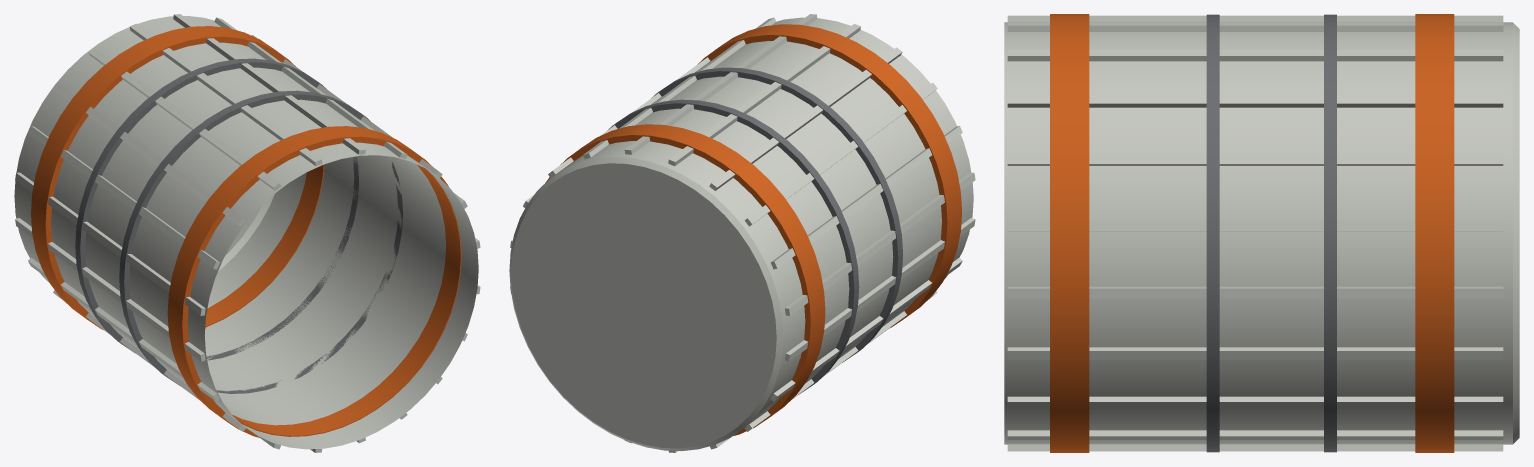
Rendered from u73l_housing.obj.
The picture shows the model from 3 angles, left to right: view 1: azimuth 30°, elevation 25°; view 2: azimuth 150°, elevation 25°; view 3: azimuth 270°, elevation 25°; orthographic projection. The views are drawn at different scales.
Parts seen in each view (by area): view 1: u73l_housing; view 2: u73l_housing; view 3: u73l_housing.
Part boxes in pixels (box(x1,y1,x2,y2)): u73l_housing: box(14, 14, 480, 452); u73l_housing: box(509, 14, 975, 452); u73l_housing: box(1004, 14, 1519, 452).
Bounding box in the file's own units: 3.37 × 3.37 × 3.95.
